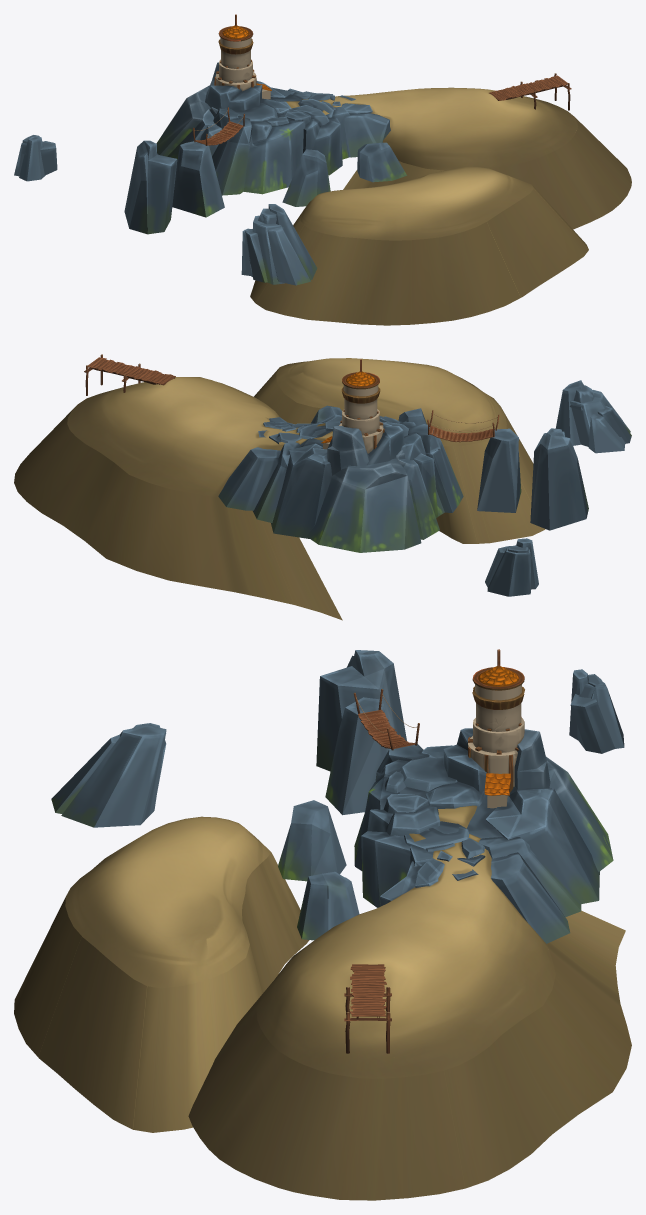
Rendered from Early 1_2.fbx.
3 renders of one model, top to bottom at view 1: azimuth 30°, elevation 25°; view 2: azimuth 150°, elevation 25°; view 3: azimuth 270°, elevation 25°, orthographic. The views are drawn at different scales.
Parts seen in each view (by area): view 1: Sand, Rocks, Lighthouse, Wood; view 2: Sand, Rocks, Lighthouse, Wood; view 3: Sand, Rocks, Lighthouse, Wood.
Part boxes in pixels (<box>): Sand: <box>250,87,631,325</box>; Rocks: <box>14,62,406,285</box>; Lighthouse: <box>214,14,271,99</box>; Wood: <box>193,73,571,145</box>; Sand: <box>14,358,545,620</box>; Rocks: <box>218,380,631,596</box>; Lighthouse: <box>321,359,384,453</box>; Wood: <box>84,354,499,442</box>; Sand: <box>14,805,631,1200</box>; Rocks: <box>51,650,624,943</box>; Lighthouse: <box>468,649,524,808</box>; Wood: <box>344,689,419,1053</box>.
Size of the model in its own units: 6389 by 2385 by 4284.
